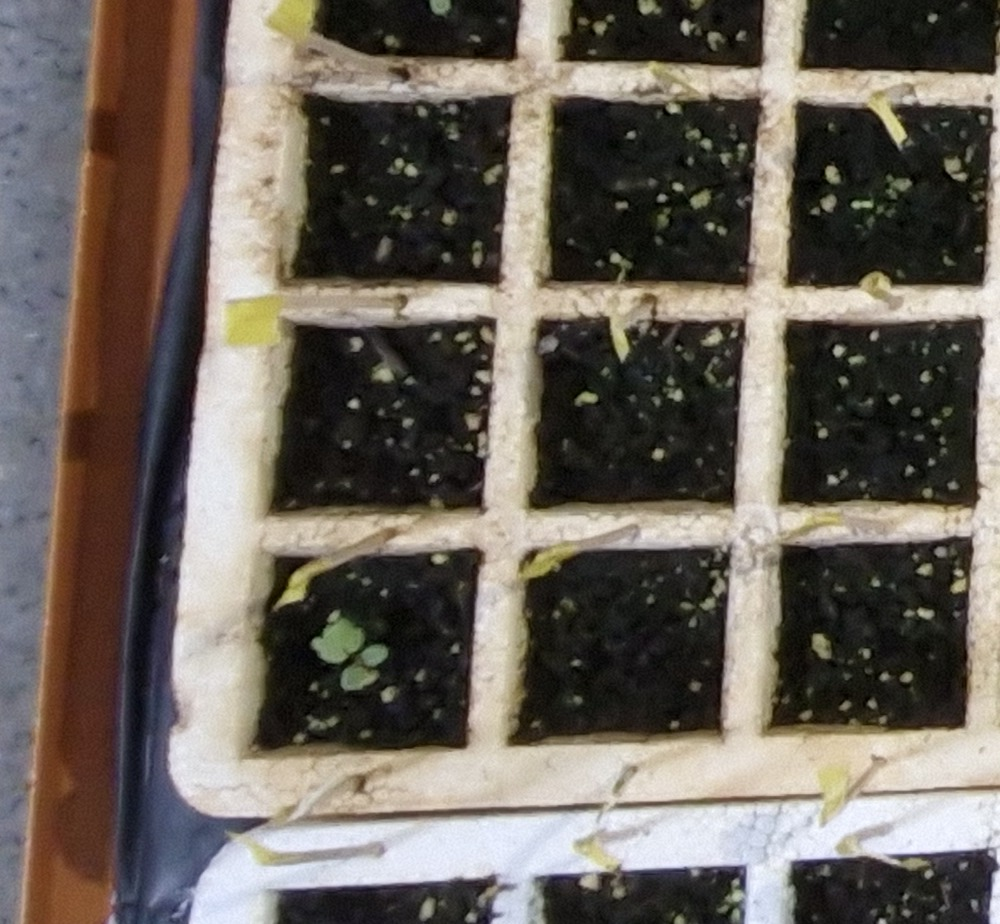Folha: (310, 617, 362, 662), (342, 665, 378, 690), (361, 644, 388, 666)
Germinacao: (313, 616, 389, 691), (417, 0, 461, 13)
